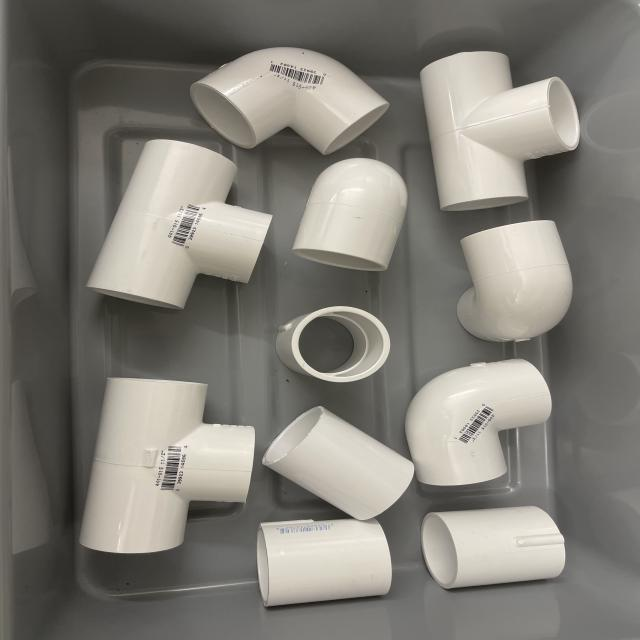L Joint: (190, 47, 391, 157), (411, 359, 552, 486), (456, 221, 574, 345)
T Joint: (87, 139, 274, 313), (79, 378, 256, 556), (420, 51, 581, 212)
